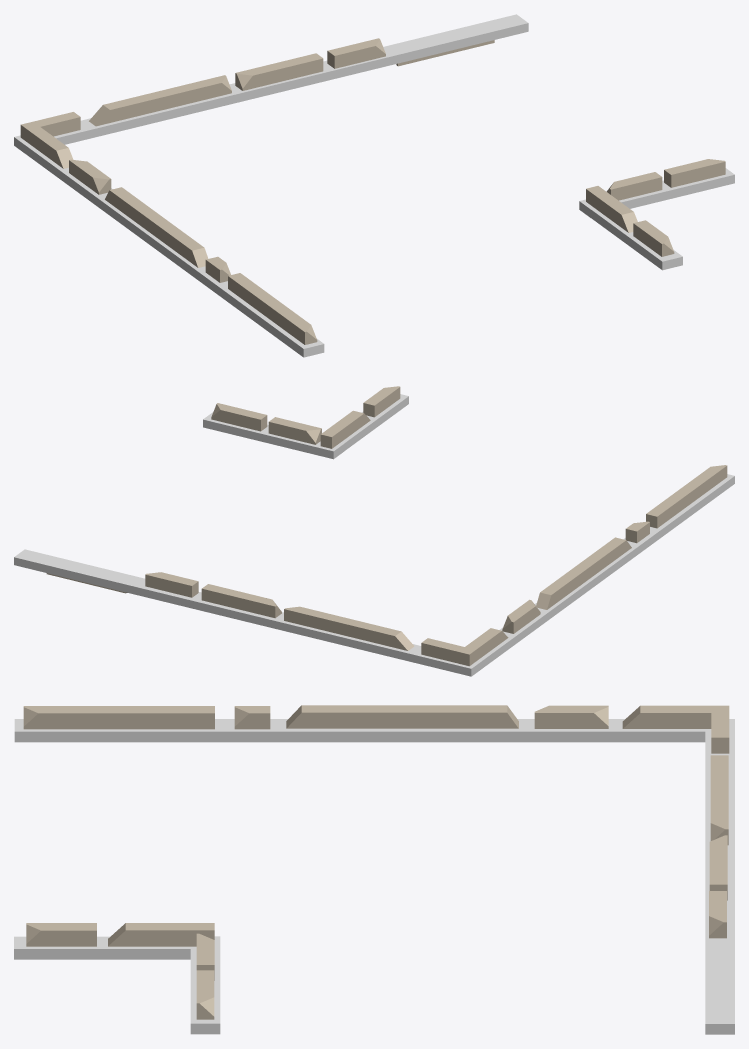
Rendered from RailTaille_Angle_Geant.FBX.
3 renders of one model, top to bottom at view 1: azimuth 30°, elevation 25°; view 2: azimuth 150°, elevation 25°; view 3: azimuth 270°, elevation 25°, orthographic. The views are drawn at different scales.
Parts seen in each view (by area): view 1: Box568, Box577, Box569, Box580, Box566, Box576, Box567, Box573, Box574, Box571, Box570, Box582 (+4 smaller); view 2: Box568, Box577, Box569, Box580, Box566, Box567, Box576, Box574, Box572, Box570, Box571, Box582 (+4 smaller); view 3: Box577, Box568, Box580, Box566, Box573, Box570, Box571, Box578, Box575, Box569, Box567, Box576 (+5 smaller).
Boxes of the visible parts, <box> form: Box568: <box>14,14,528,153</box>; Box577: <box>26,144,324,357</box>; Box569: <box>89,75,231,126</box>; Box580: <box>105,187,208,267</box>; Box566: <box>228,273,317,344</box>; Box576: <box>235,53,323,90</box>; Box567: <box>579,168,734,217</box>; Box573: <box>591,208,682,270</box>; Box574: <box>664,159,725,187</box>; Box571: <box>20,121,73,168</box>; Box570: <box>586,186,637,232</box>; Box582: <box>327,38,385,68</box>; Box568: <box>14,549,482,676</box>; Box577: <box>478,474,734,668</box>; Box569: <box>284,606,414,650</box>; Box580: <box>536,537,631,609</box>; Box566: <box>646,465,727,528</box>; Box567: <box>203,412,344,459</box>; Box576: <box>201,584,281,618</box>; Box574: <box>211,403,267,431</box>; Box572: <box>268,417,321,444</box>; Box570: <box>320,410,370,448</box>; Box571: <box>458,628,508,666</box>; Box582: <box>145,572,198,597</box>; Box577: <box>14,719,705,742</box>; Box568: <box>705,719,734,1034</box>; Box580: <box>286,705,518,728</box>; Box566: <box>23,706,214,729</box>; Box573: <box>14,936,190,959</box>; Box570: <box>108,923,214,946</box>; Box571: <box>622,705,729,728</box>; Box578: <box>534,705,608,728</box>; Box575: <box>26,923,96,946</box>; Box569: <box>710,755,728,845</box>; Box567: <box>190,936,220,1034</box>; Box576: <box>709,835,727,900</box>.
Size of the model in its own units: 479 by 23.62 by 479.
